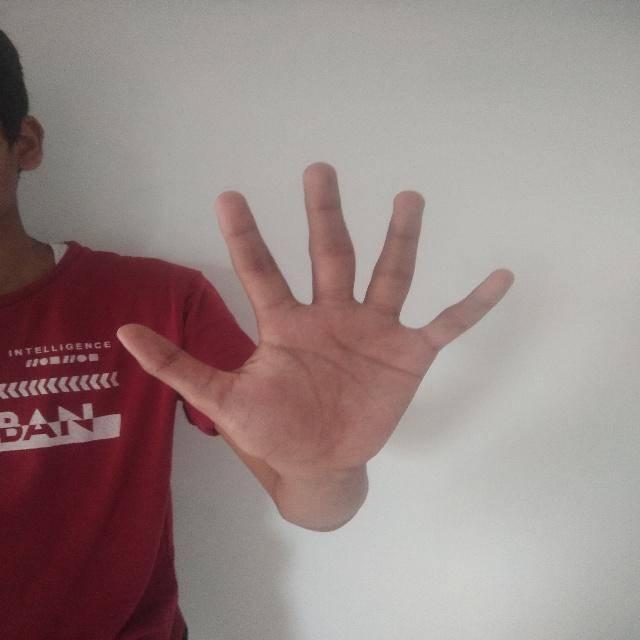Moutza: (113, 159, 521, 507)
